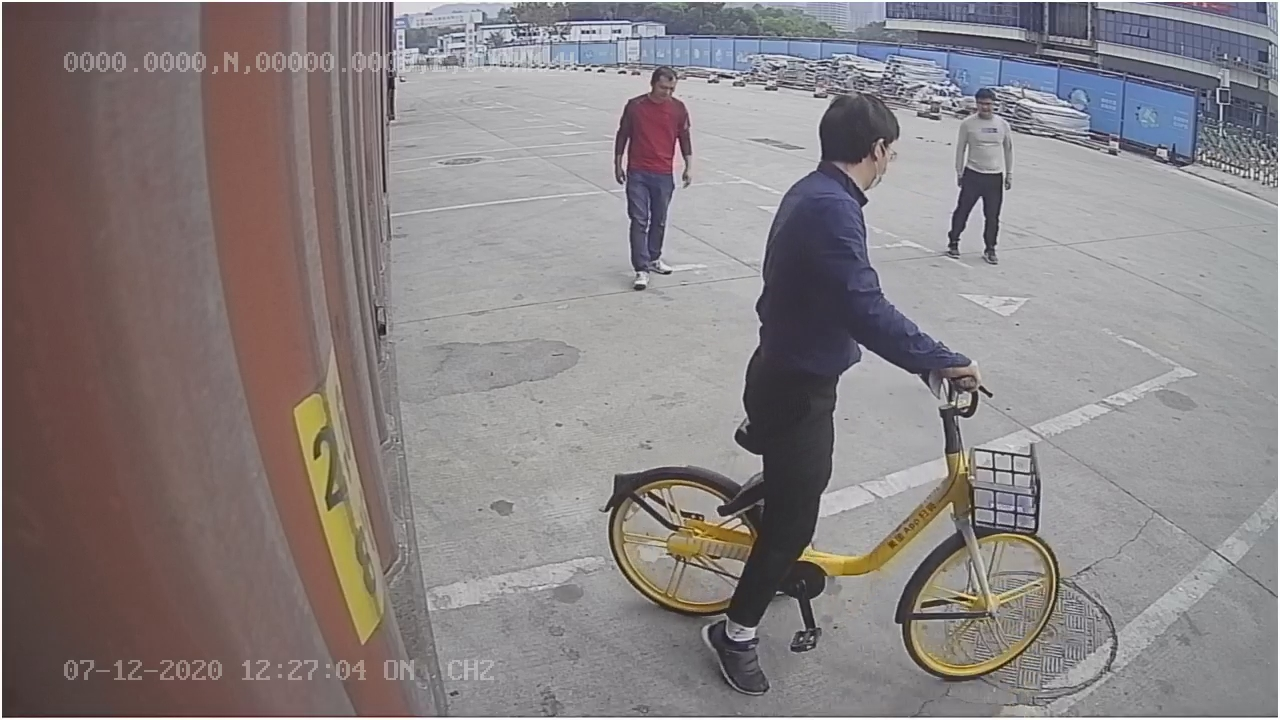person: (609, 60, 698, 295)
